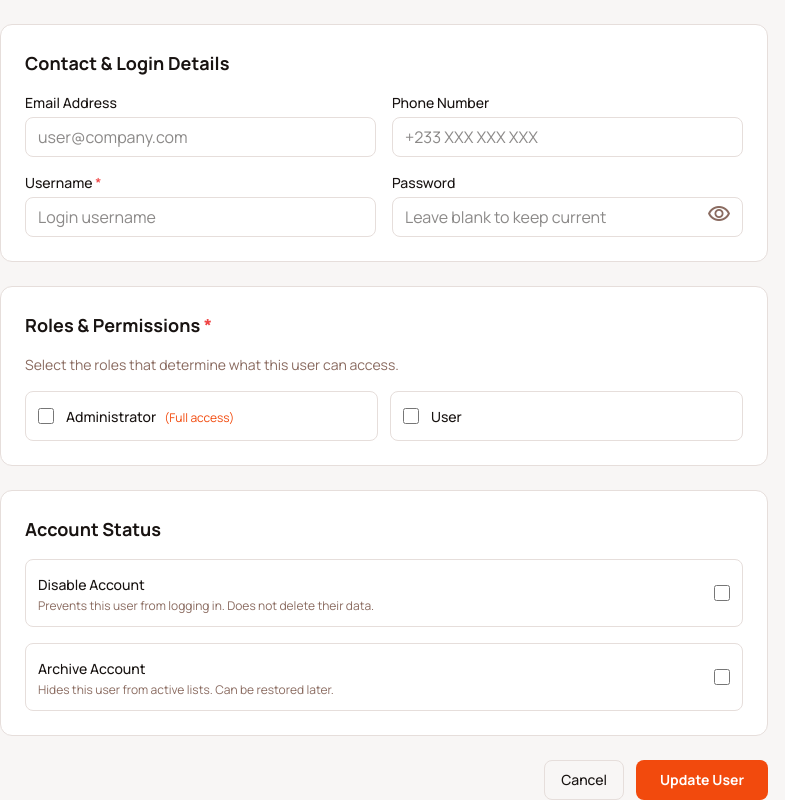
UserFormPage edit mode (SOUPFIN-45) › reports every blocking field at once, not just the first
(page scrolled)
Click the button with test id "user-form-submit-button".
click(702, 780)  # box [636,760,768,799]
(page scrolled)
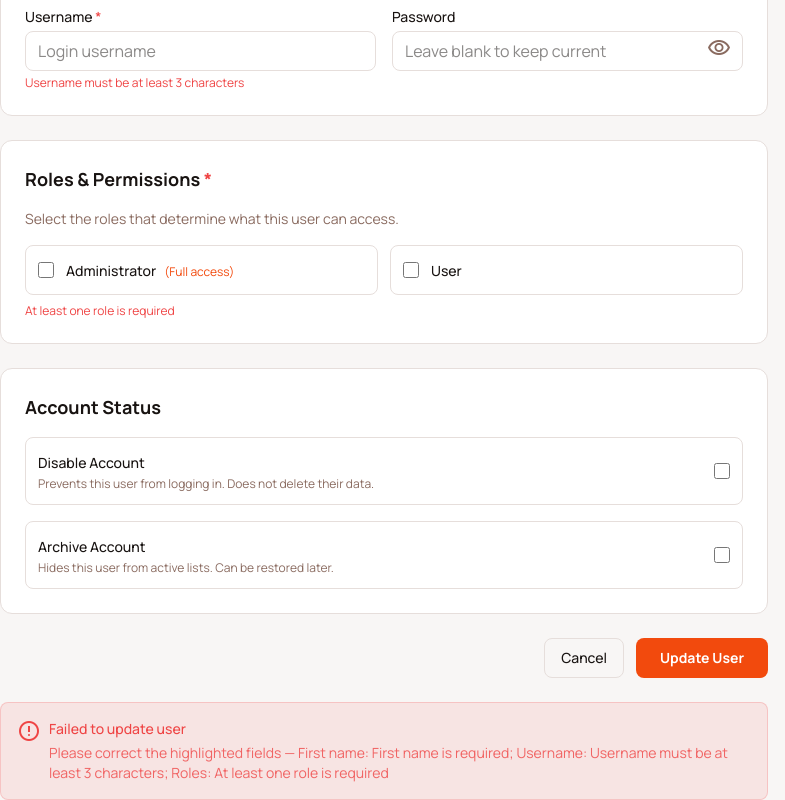
Expected: the message with test id "user-form-submit-error" shows "First name", [49,743,728,782]
Expected: the message with test id "user-form-submit-error" shows "Username", [49,743,728,782]
Expected: the message with test id "user-form-submit-error" shows "Roles", [49,743,728,782]
